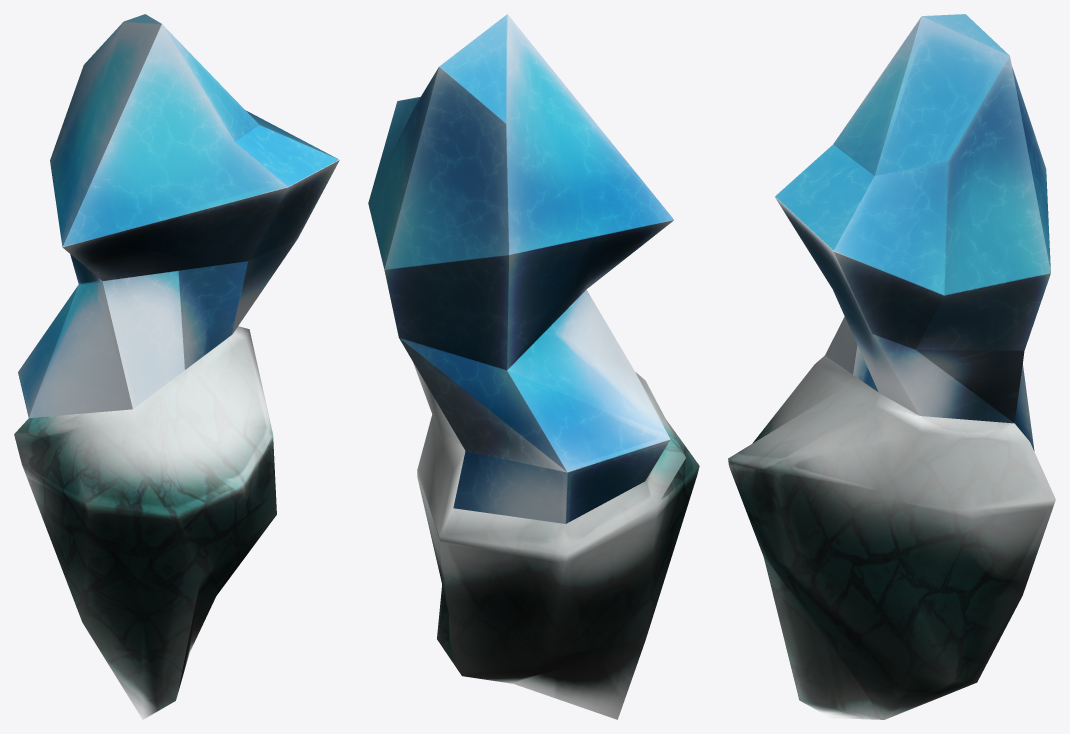
The model's file is Crystal_56.fbx.
3 renders of one model, left to right at view 1: azimuth 30°, elevation 25°; view 2: azimuth 150°, elevation 25°; view 3: azimuth 270°, elevation 25°, orthographic. The views are drawn at different scales.
Parts seen in each view (by area): view 1: Crystal_56; view 2: Crystal_56; view 3: Crystal_56.
Boxes of the visible parts, x1,y1,x2,y2 form: Crystal_56: (14,14,339,719); Crystal_56: (368,14,699,719); Crystal_56: (728,14,1055,719).
Bounding box in the file's own units: 45.66 × 97.04 × 39.26.
